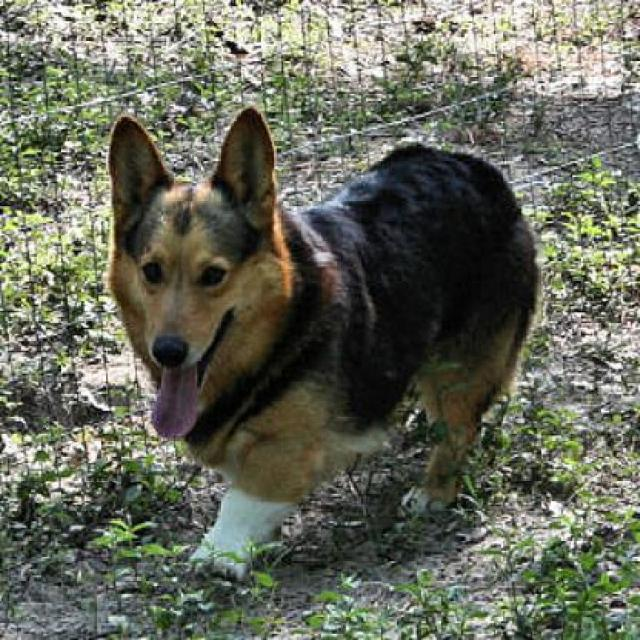Dog: (100, 105, 546, 586)
